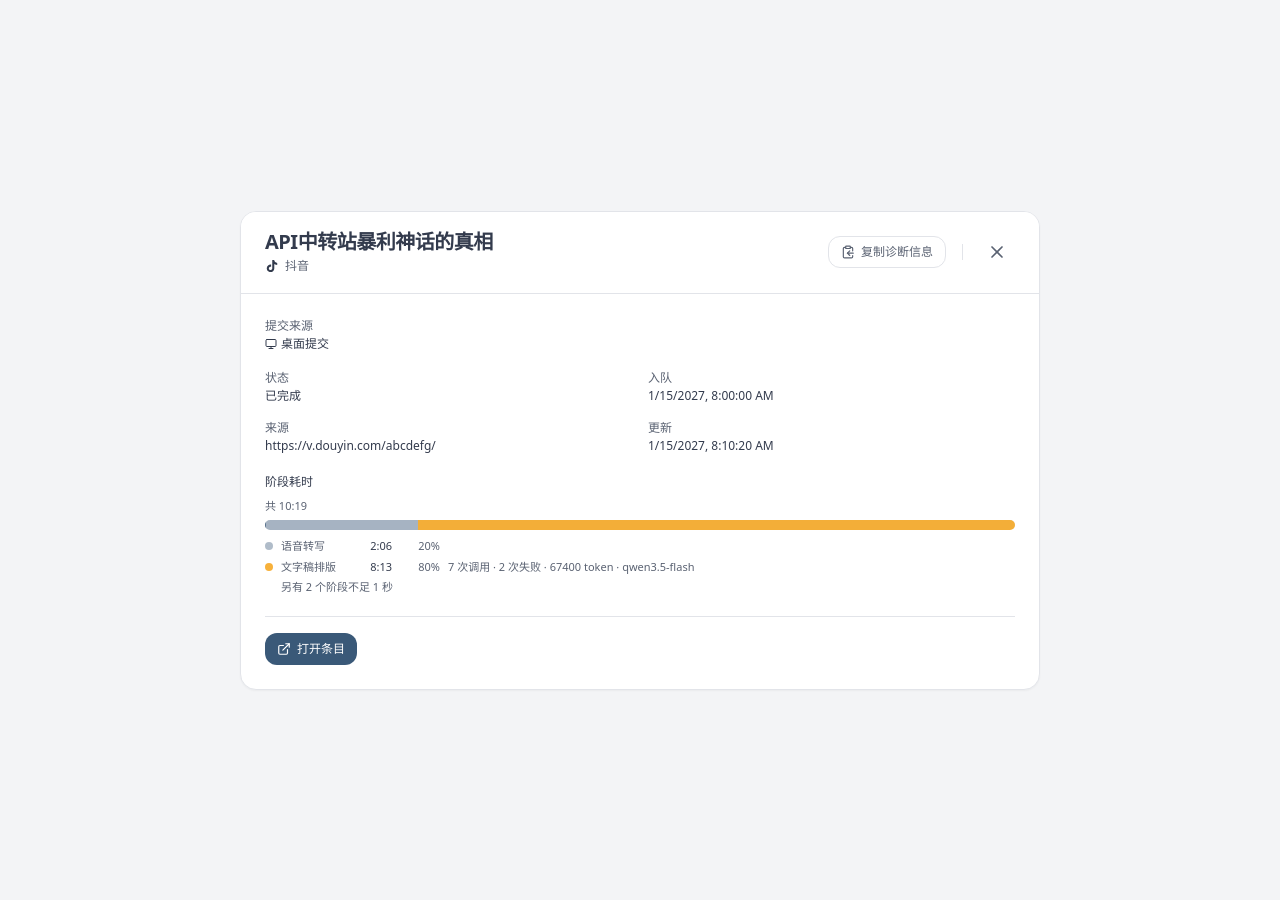
Test: 导入任务详情弹窗 › 默认读数是总耗时，悬停某段就地换成那一段
Expected: the text "共 10:19" is shown, [265,498,307,514]
Hover over the text "文字稿排版" at (308, 567), box [281,558,336,575]
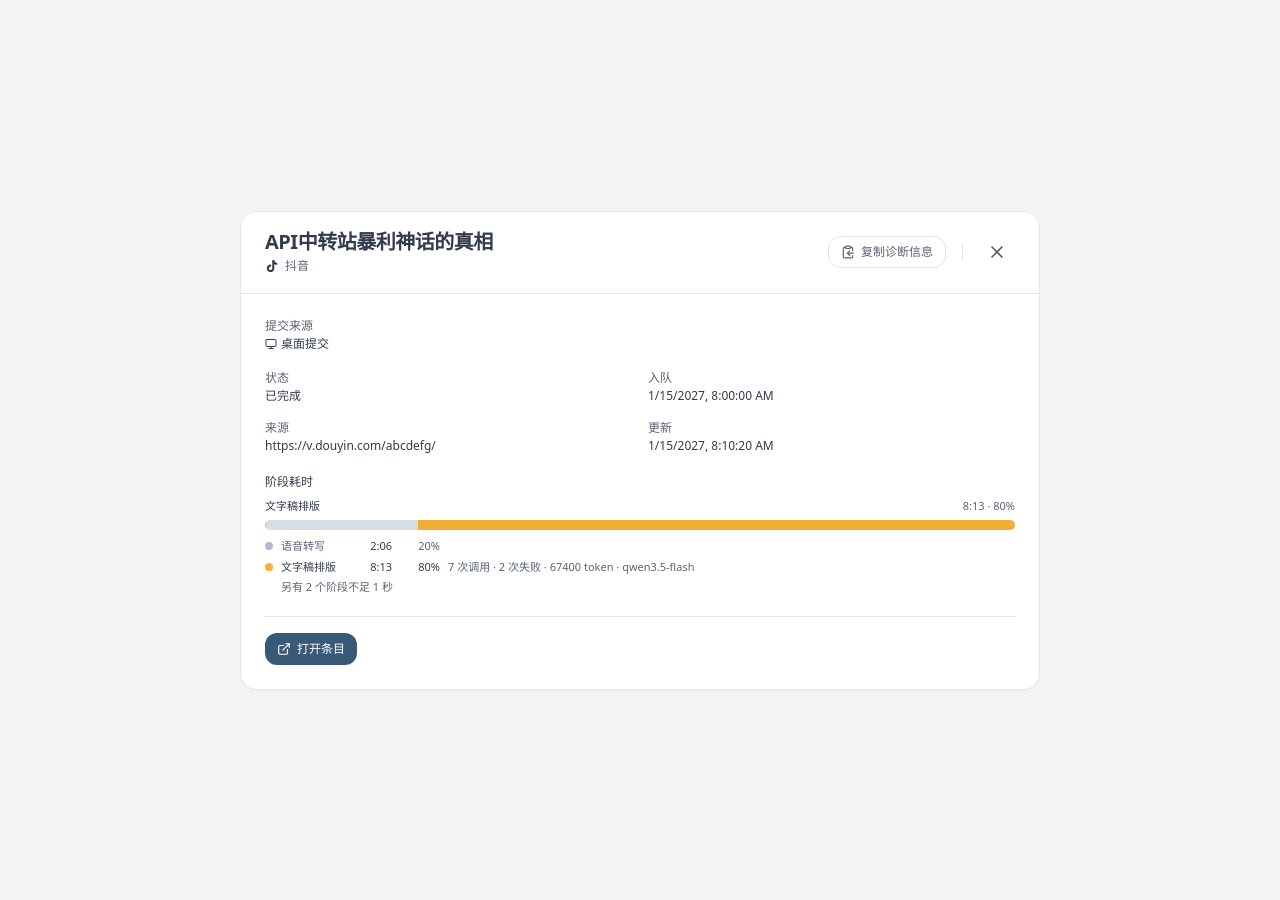
Now the text "共 10:19" is gone
Now the text "8:13 · 80%" is shown, box [963,498,1015,514]
